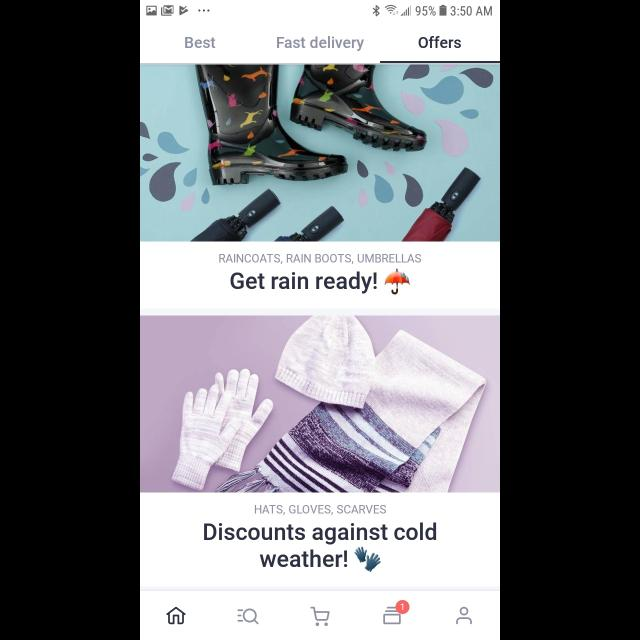icon: (382, 600, 410, 624), (310, 606, 330, 626), (166, 607, 186, 625), (237, 609, 259, 625), (456, 606, 472, 624)
image: (140, 66, 500, 242), (140, 316, 500, 492), (354, 546, 382, 572), (384, 268, 410, 296)
text: (205, 522, 437, 568), (230, 270, 378, 294), (219, 254, 421, 264), (278, 36, 364, 52), (254, 505, 386, 515), (418, 36, 462, 49), (184, 37, 216, 49)
uppertaskbar: (140, 1, 500, 18)
